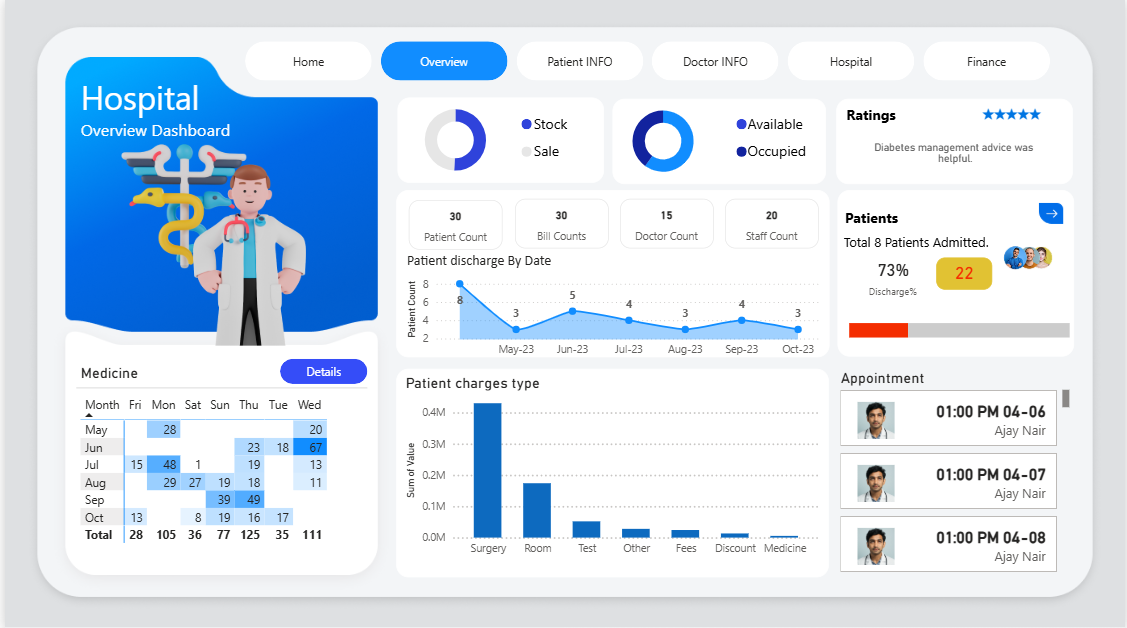

What the dashboard file says about the page in this screenshot:
{"tool":"powerbi","page":{"name":"Overview","canvas":[1280,720],"ordinal":1},"visuals":[{"type":"shape","box":[448.7,112,236,97.3],"z":0},{"type":"shape","box":[694.7,112.7,244,97.3],"z":1000},{"type":"image","box":[101.4,142.1,280,258.6],"z":2000},{"type":"shape","box":[447.1,217.1,495.6,191.1],"z":3000},{"type":"textbox","box":[81.7,81.7,192.6,109.7],"z":4000},{"type":"card","fields":{"Values":["_Measures.Patient_count"]},"box":[462.1,229,107.5,57],"z":5000},{"type":"pivotTable","title":"Medicine","fields":{"Values":["CountNonNull(medicine_patient.qty)"],"Columns":["Calendar.Day"],"Rows":["Calendar.Month"]},"box":[81.2,416.2,332.5,248.8],"z":6000},{"type":"areaChart","title":"Patient discharge By Date","fields":{"Category":["patient_info.Format_Disch_Date"],"Y":["_Measures.Patient_count"]},"box":[454.7,286.5,483.1,130],"z":7000},{"type":"actionButton","box":[313.8,410,100,28.8],"z":8000},{"type":"card","fields":{"Values":["Count(patient_info.doctor_doctor_id)"]},"box":[703.1,227.6,107,57],"z":9000},{"type":"pageNavigator","box":[274.3,47.1,922.9,45.7],"z":10000},{"type":"card","fields":{"Values":["Count(staff.staff_id)"]},"box":[823.4,226.5,107.5,57],"z":11000},{"type":"clusteredColumnChart","title":"Patient charges type","fields":{"Category":["Bills.Charge_Type"],"Y":["Sum(Bills.Value)"]},"box":[447.1,421.4,494.3,238.6],"z":12000},{"type":"card","fields":{"Values":["Count(Bills.bill_id)"]},"box":[582.9,227.6,107,57],"z":13000},{"type":"advancedSlicerVisual","title":"Appointment","fields":{"Values":["appointment.Appointment_time_date"]},"box":[950,421.4,271.4,238.6],"z":14000},{"type":"shape","box":[951,217,270,190],"z":15000},{"type":"image","box":[1128,227,93,86],"z":16000},{"type":"shape","box":[960,226.7,141.1,41.1],"z":17000},{"type":"shape","box":[958.8,255,185,41.2],"z":18000},{"type":"card","fields":{"Values":["_Measures.Discharge%"]},"box":[958.6,278.6,112.9,73.6],"z":19000},{"type":"card","fields":{"Values":["_Measures.Discharge_Patient"]},"box":[1063.6,293.6,64.3,37.1],"z":20000},{"type":"hundredPercentStackedBarChart","fields":{"Y":["_Measures.Patient_count"],"Series":["patient_info.patient_status"]},"box":[960,333.6,262.1,80],"z":21000},{"type":"donutChart","title":"Medicine Stock Status","fields":{"Y":["_Measures.Total_Stock_QTY","_Measures.Total_med_sale_qty"]},"box":[447.5,111.2,135.6,97.5],"z":22000},{"type":"donutChart","title":"Medicine Stock Status","fields":{"Y":["Count(beds_info.beds)"],"Category":["beds_info.status"]},"box":[684.7,112.7,136,97.3],"z":23000},{"type":"shape","box":[604.7,120.6,70,40.8],"z":24000},{"type":"shape","box":[604.6,150.8,70,40.8],"z":25000},{"type":"shape","box":[590.6,136.1,12.2,12.2],"z":26000},{"type":"shape","box":[590.6,167.2,12.2,12.2],"z":27000},{"type":"shape","box":[849.2,120.6,70,40.8],"z":28000},{"type":"shape","box":[849.1,150.8,70,40.8],"z":29000},{"type":"shape","box":[835,136.2,12.2,12.2],"z":30000},{"type":"shape","box":[835,167.3,12.2,12.2],"z":31000},{"type":"shape","box":[950,112.5,270,97.5],"z":32000},{"type":"shape","box":[960.7,109.3,140.7,41.4],"z":33000},{"type":"card","title":"Admission date","fields":{"Values":["_Measures.Count of satisfaction_rating star rating"]},"box":[1078.6,115.7,144.3,32.9],"z":34000},{"type":"card","title":"Admission date","fields":{"Values":["Min(patient_info.satisfaction_feedback)"]},"box":[980.9,148.2,209.1,55.5],"z":35000},{"type":"actionButton","box":[275.1,49.5,138.7,39.8],"z":36000},{"type":"actionButton","box":[591.2,50.7,138.7,39.8],"z":37000},{"type":"actionButton","box":[740.8,49.5,138.7,39.8],"z":38000},{"type":"actionButton","box":[901.2,49.5,138.7,39.8],"z":39000},{"type":"actionButton","box":[1050.8,51.9,138.7,39.8],"z":40000}]}

Visuals, with their boxes in screenshot pixels (x1, y1, x2, y2), scaled from the page's 1280x720 canvas onto the 1127x628 screenshot:
shape: rect(395, 98, 603, 183)
shape: rect(612, 98, 826, 183)
image: rect(89, 124, 336, 349)
shape: rect(394, 189, 830, 356)
textbox: rect(72, 71, 242, 167)
card - _Measures.Patient_count: rect(407, 200, 502, 249)
"Medicine" pivotTable: rect(71, 363, 364, 580)
"Patient discharge By Date" areaChart: rect(400, 250, 826, 363)
actionButton: rect(276, 358, 364, 383)
card - Count(patient_info.doctor_doctor_id): rect(619, 199, 713, 248)
pageNavigator: rect(242, 41, 1054, 81)
card - Count(staff.staff_id): rect(725, 198, 820, 247)
"Patient charges type" clusteredColumnChart: rect(394, 368, 829, 576)
card - Count(Bills.bill_id): rect(513, 199, 607, 248)
"Appointment" advancedSlicerVisual: rect(836, 368, 1075, 576)
shape: rect(837, 189, 1075, 355)
image: rect(993, 198, 1075, 273)
shape: rect(845, 198, 969, 234)
shape: rect(844, 222, 1007, 258)
card - _Measures.Discharge%: rect(844, 243, 943, 307)
card - _Measures.Discharge_Patient: rect(936, 256, 993, 288)
hundredPercentStackedBarChart - _Measures.Patient_count x patient_info.patient_status: rect(845, 291, 1076, 361)
"Medicine Stock Status" donutChart: rect(394, 97, 513, 182)
"Medicine Stock Status" donutChart: rect(603, 98, 723, 183)
shape: rect(532, 105, 594, 141)
shape: rect(532, 132, 594, 167)
shape: rect(520, 119, 531, 129)
shape: rect(520, 146, 531, 156)
shape: rect(748, 105, 809, 141)
shape: rect(748, 132, 809, 167)
shape: rect(735, 119, 746, 129)
shape: rect(735, 146, 746, 157)
shape: rect(836, 98, 1074, 183)
shape: rect(846, 95, 970, 131)
"Admission date" card: rect(950, 101, 1077, 130)
"Admission date" card: rect(864, 129, 1048, 178)
actionButton: rect(242, 43, 364, 78)
actionButton: rect(521, 44, 643, 79)
actionButton: rect(652, 43, 774, 78)
actionButton: rect(793, 43, 916, 78)
actionButton: rect(925, 45, 1047, 80)
